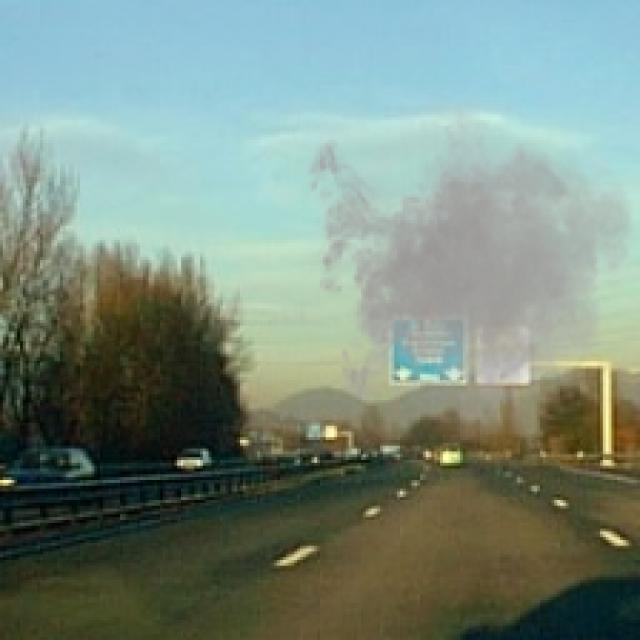smoke: (297, 86, 637, 457)
